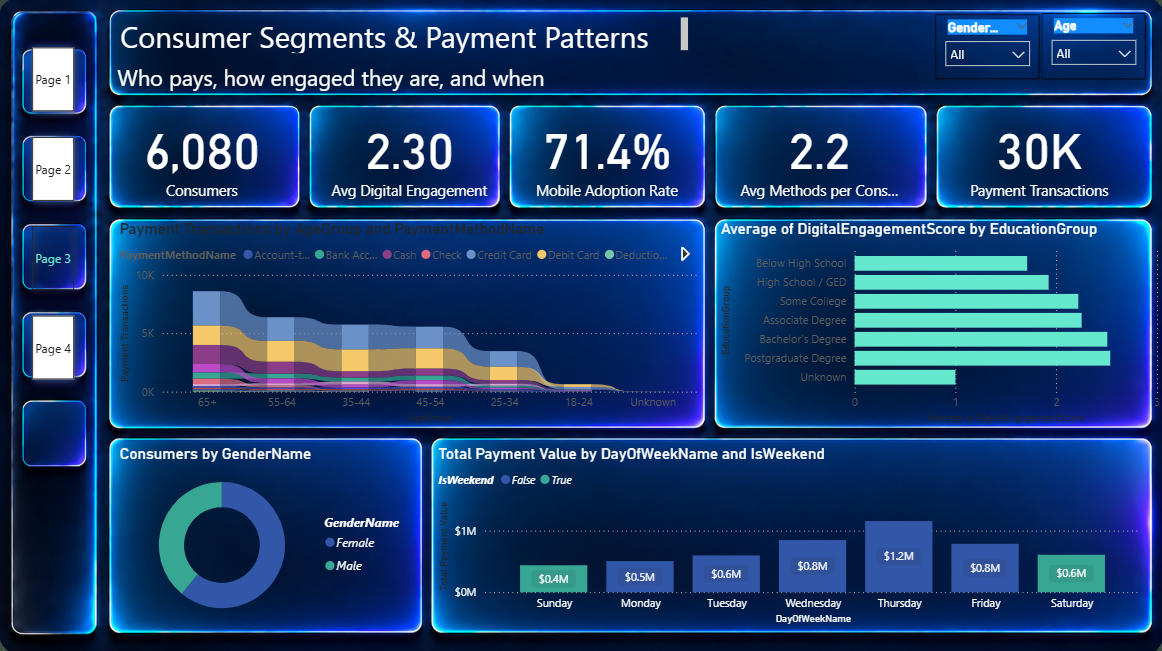

What the dashboard file says about the page in this screenshot:
{"tool":"powerbi","page":{"name":"Page 3","canvas":[1280,720],"ordinal":2},"visuals":[{"type":"donutChart","fields":{"Category":["analytics DimConsumer.GenderName"],"Y":["_Measures.Consumers"]},"box":[128,489.8,333.5,202.5],"z":0},{"type":"clusteredBarChart","fields":{"Category":["analytics DimConsumer.EducationGroup"],"Y":["Avg(analytics DimConsumer.DigitalEngagementScore)"]},"box":[787.5,242.7,492.8,229.3],"z":1000},{"type":"columnChart","fields":{"Category":["analytics DimDate.DayOfWeekName"],"Y":["_Measures.Total Payment Value"],"Series":["analytics DimDate.IsWeekend"]},"box":[477.9,489.8,781.6,202.5],"z":2000},{"type":"ribbonChart","fields":{"Category":["analytics DimConsumer.AgeGroup"],"Y":["_Measures.Payment Transactions"],"Series":["analytics DimPaymentMethod.PaymentMethodName"]},"box":[128,242.7,644.6,229.3],"z":3000},{"type":"card","fields":{"Values":["_Measures.Consumers"]},"box":[128,117.6,190.6,108.7],"z":4000},{"type":"card","fields":{"Values":["_Measures.Avg Digital Engagement"]},"box":[355.8,117.6,190.6,108.7],"z":5000},{"type":"card","fields":{"Values":["_Measures.Mobile Adoption Rate"]},"box":[571.7,117.6,190.6,108.7],"z":6000},{"type":"card","fields":{"Values":["_Measures.Avg Methods per Consumer"]},"box":[805.4,117.6,190.6,108.7],"z":7000},{"type":"card","fields":{"Values":["_Measures.Payment Transactions"]},"box":[1046.6,117.6,190.6,108.7],"z":8000},{"type":"textbox","box":[128,16.4,634.2,49.1],"z":9000},{"type":"textbox","box":[125.1,65.5,647.6,52.1],"z":10000},{"type":"slicer","fields":{"Values":["analytics DimConsumer.Age"]},"box":[1144.8,16.4,114.6,72.9],"z":11000},{"type":"slicer","fields":{"Values":["analytics DimConsumer.GenderName"]},"box":[1027.2,17.9,114.6,71.5],"z":12000},{"type":"pageNavigator","box":[26.8,44.7,64,384.1],"z":12001}]}

Visuals, with their boxes in screenshot pixels (x1, y1, x2, y2), scaled from the page's 1280x720 canvas onto the 1162x651 screenshot:
donutChart - analytics DimConsumer.GenderName x _Measures.Consumers: box=[116, 443, 419, 626]
clusteredBarChart - analytics DimConsumer.EducationGroup x Avg(analytics DimConsumer.DigitalEngagementScore): box=[715, 219, 1161, 427]
columnChart - analytics DimDate.DayOfWeekName x _Measures.Total Payment Value: box=[434, 443, 1143, 626]
ribbonChart - analytics DimConsumer.AgeGroup x _Measures.Payment Transactions: box=[116, 219, 701, 427]
card - _Measures.Consumers: box=[116, 106, 289, 205]
card - _Measures.Avg Digital Engagement: box=[323, 106, 496, 205]
card - _Measures.Mobile Adoption Rate: box=[519, 106, 692, 205]
card - _Measures.Avg Methods per Consumer: box=[731, 106, 904, 205]
card - _Measures.Payment Transactions: box=[950, 106, 1123, 205]
textbox: box=[116, 15, 692, 59]
textbox: box=[114, 59, 701, 106]
slicer - analytics DimConsumer.Age: box=[1039, 15, 1143, 81]
slicer - analytics DimConsumer.GenderName: box=[933, 16, 1037, 81]
pageNavigator: box=[24, 40, 82, 388]
